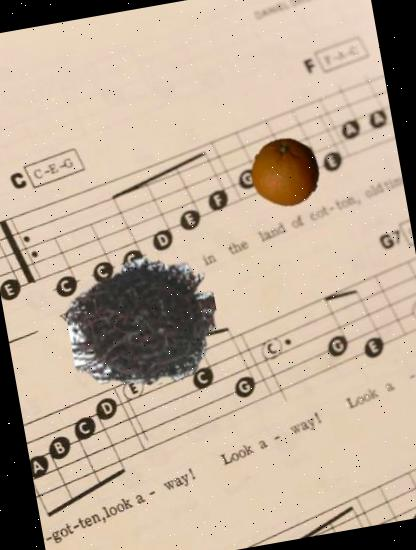Orange: (245, 132, 326, 212)
Rambutan: (56, 234, 229, 407)
